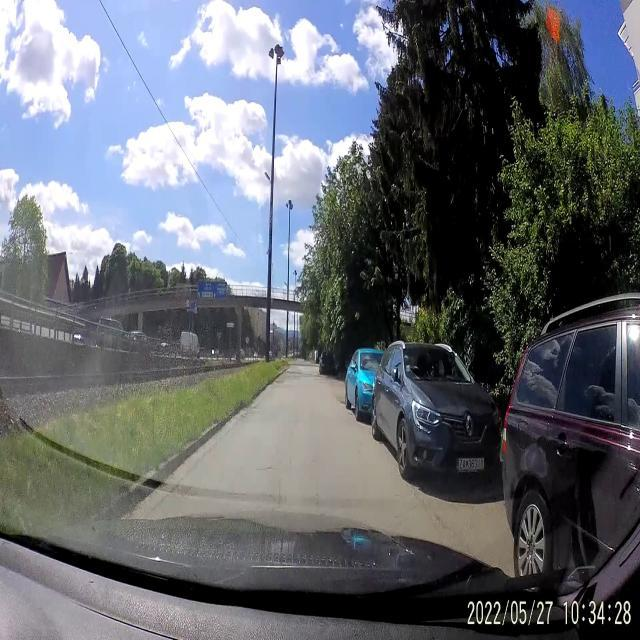Pothole: (253, 458, 274, 478)
